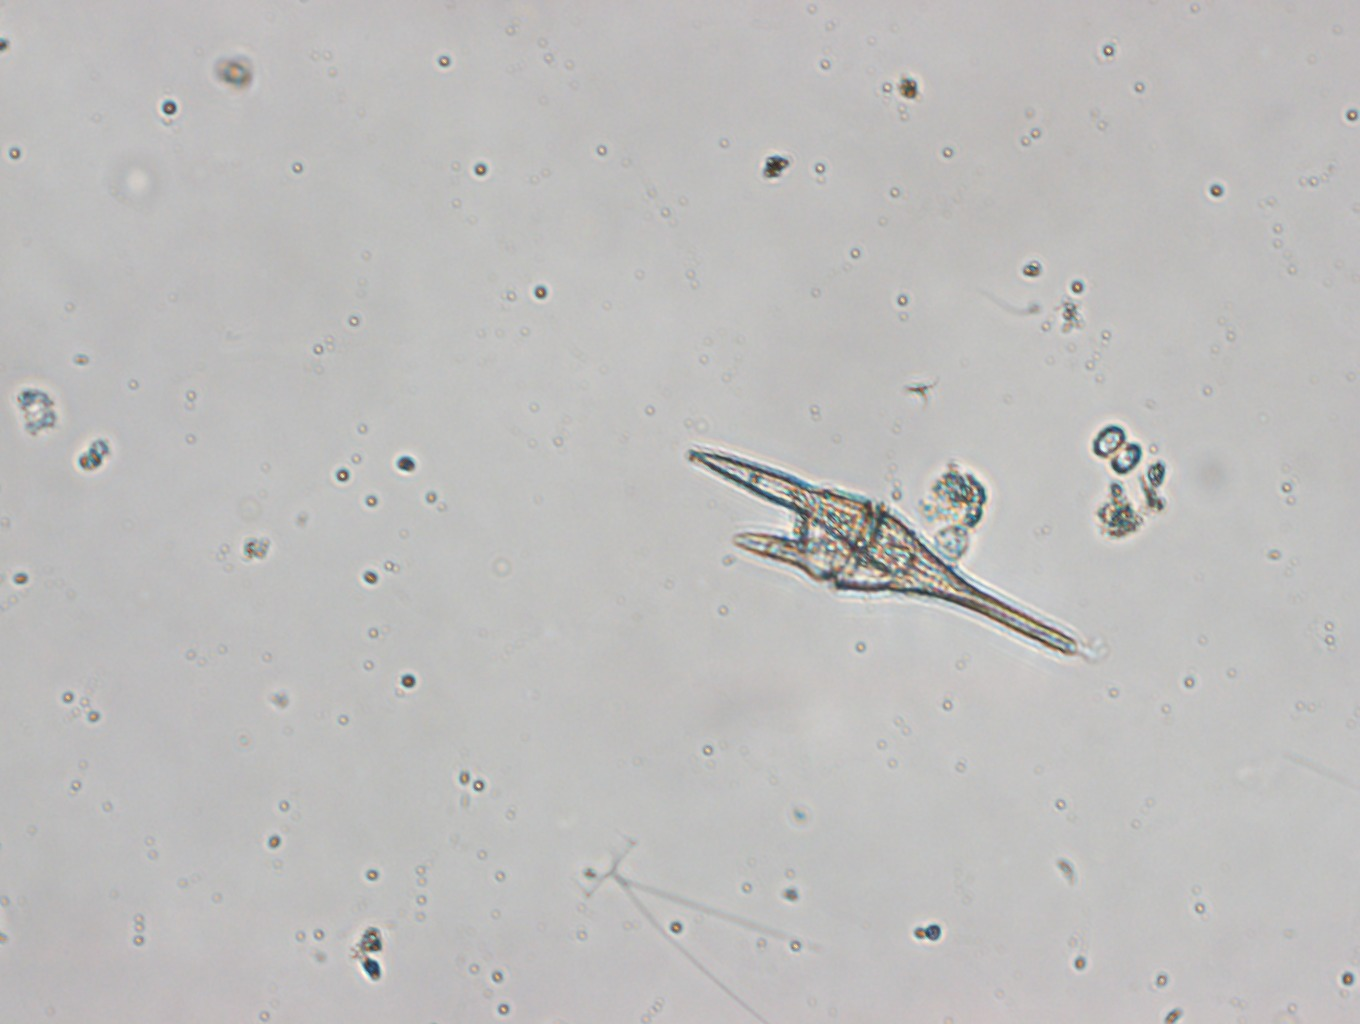ceratium furca: (687, 451, 1082, 658)
